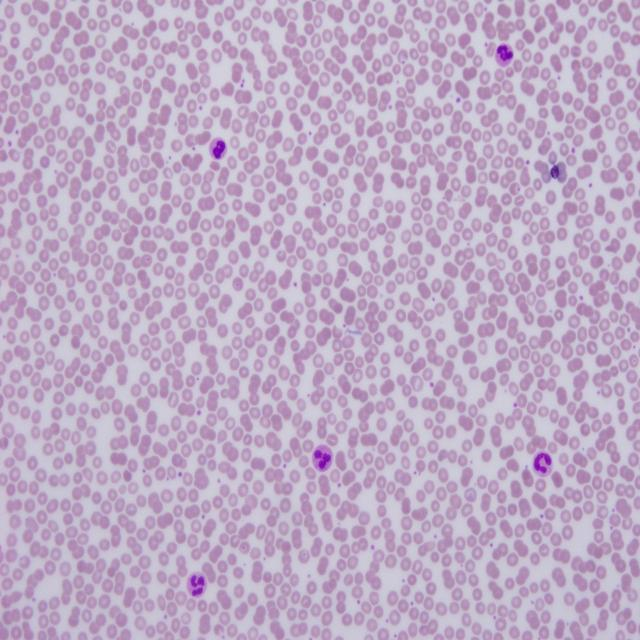cell: (312, 445, 332, 472), (532, 451, 552, 477), (188, 572, 206, 598), (495, 43, 514, 67)
